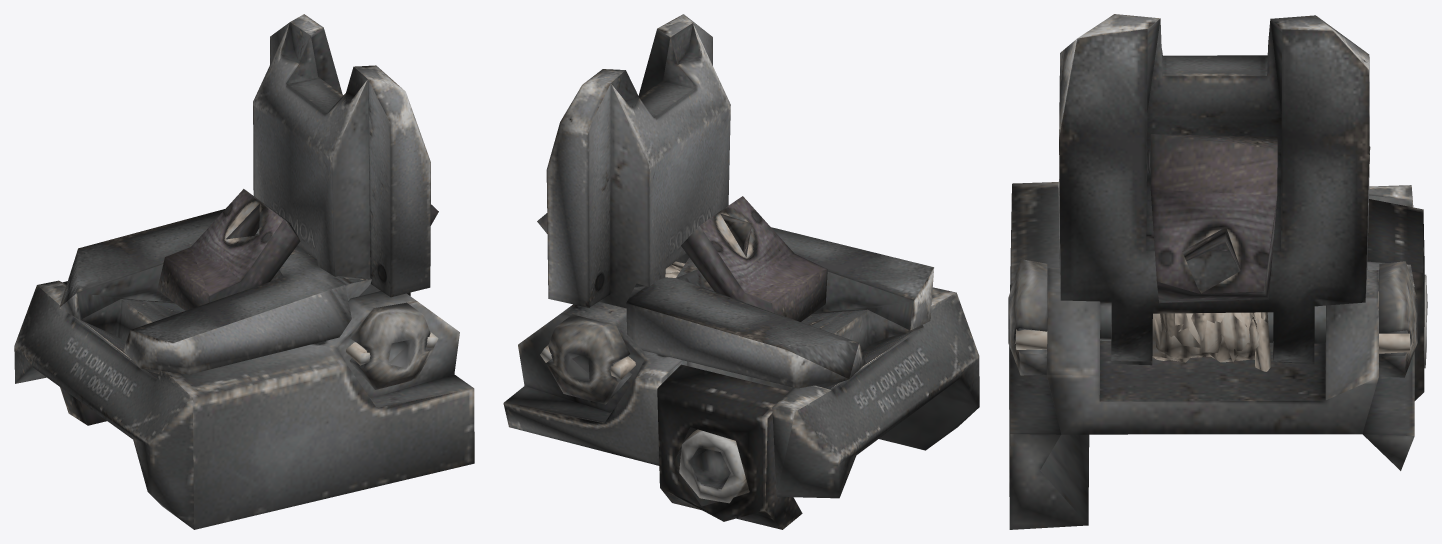
File: Rifle_IronSights.fbx
3 renders of one model, left to right at view 1: azimuth 30°, elevation 25°; view 2: azimuth 150°, elevation 25°; view 3: azimuth 270°, elevation 25°, orthographic. The views are drawn at different scales.
Visible parts, largest first — view 1: IronSights; view 2: IronSights; view 3: IronSights.
Boxes of the visible parts, left/top/right/bottom form: IronSights: left=14, top=14, right=474, bottom=529; IronSights: left=503, top=14, right=979, bottom=529; IronSights: left=1008, top=14, right=1427, bottom=529.
Bounding box in the file's own units: 0.0362 × 0.0374 × 0.0299.
